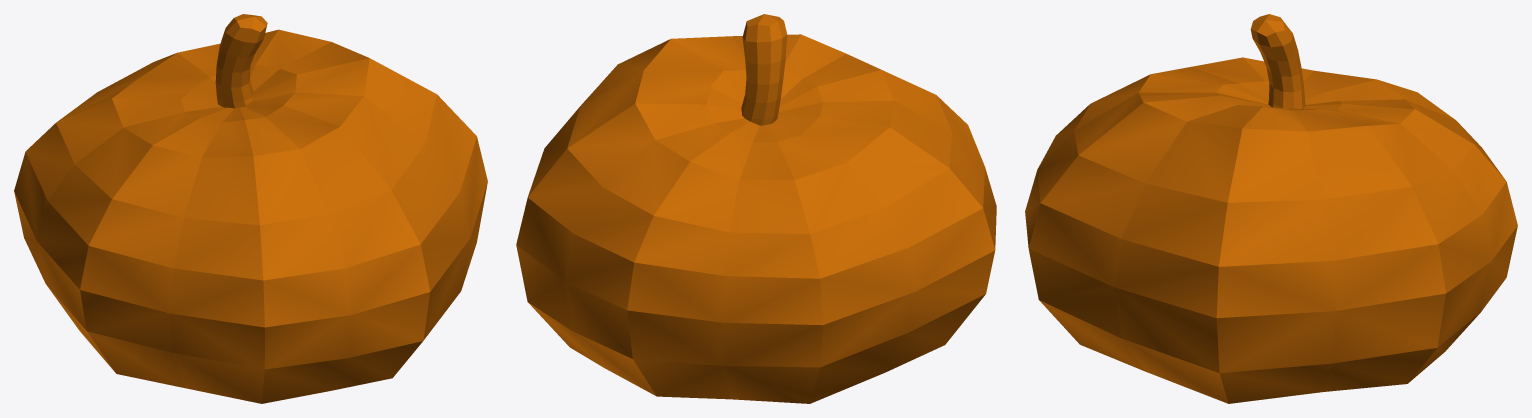
Rendered from pumpkin.fbx.
3 renders of one model, left to right at view 1: azimuth 30°, elevation 25°; view 2: azimuth 150°, elevation 25°; view 3: azimuth 270°, elevation 25°, orthographic.
Parts seen in each view (by area): view 1: pumpkin; view 2: pumpkin; view 3: pumpkin.
Part boxes in pixels (box(x1,y1,x2,y2)): pumpkin: box(14, 14, 487, 403); pumpkin: box(516, 14, 996, 403); pumpkin: box(1025, 14, 1517, 403).
Bounding box in the file's own units: 50.12 × 38.7 × 52.38.
